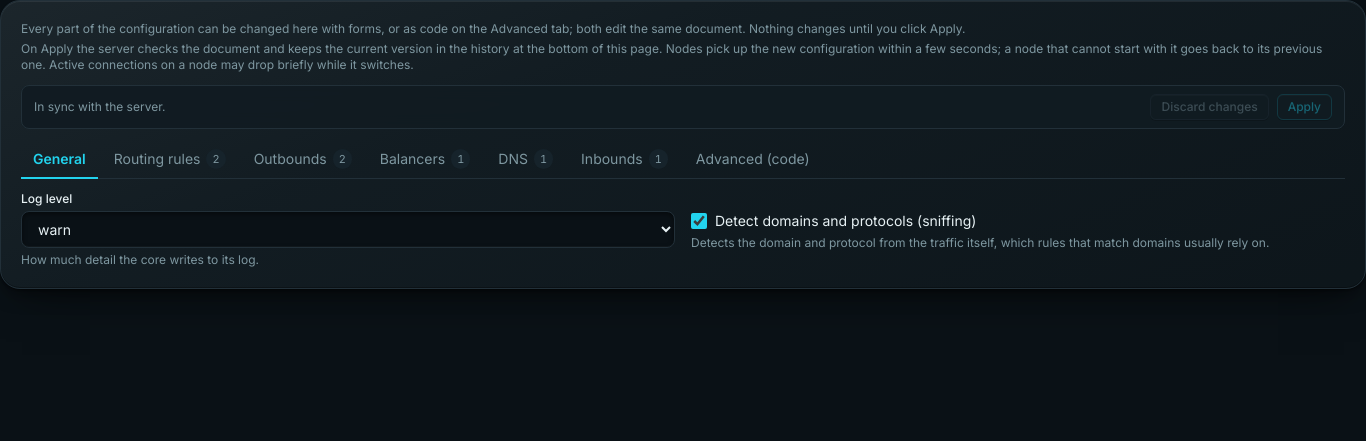
Test: tabs › files balancers apart from plain outbounds, numbered within their own list
The width and height of the screenshot is (1366, 441).
Expected: the element named "Core Config" is shown, top-left (21, 141), bottom-right (1345, 179)
Click the tab "Outbounds 2". click: point(303, 160)
box: top-left (242, 141), bottom-right (364, 179)
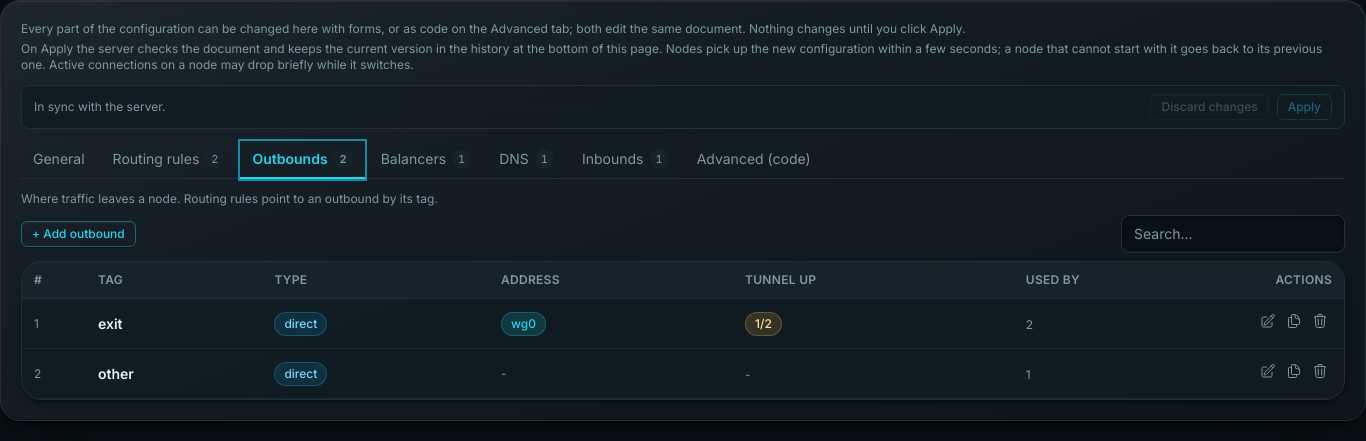
Expected: the text "fast" is not shown
Result: the text "exit" is shown at top-left (98, 314), bottom-right (123, 332)
Click the tab "Balancers 1". click: point(426, 160)
box: top-left (369, 141), bottom-right (483, 179)
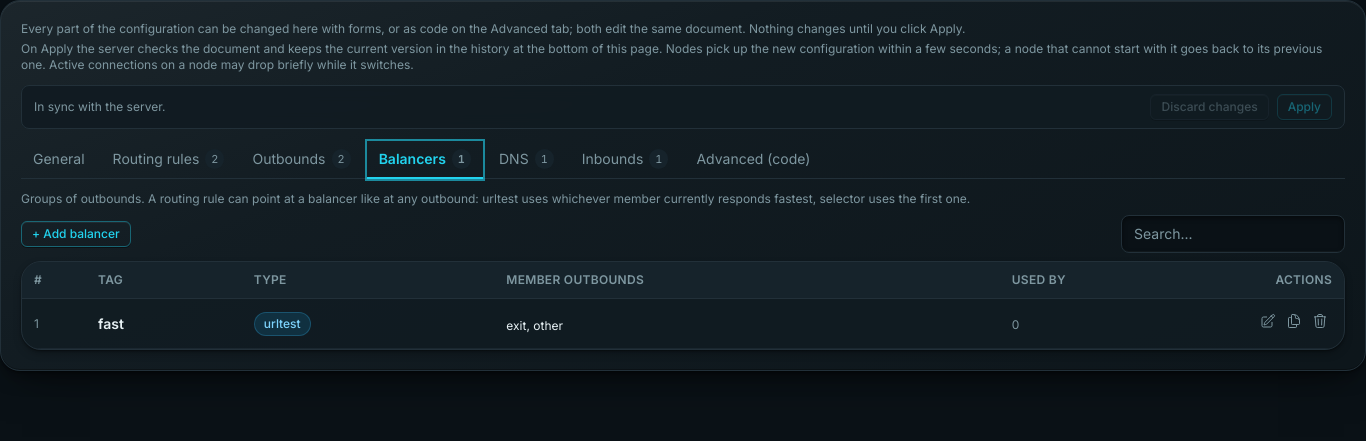
Result: the text "1" in the row of "exit, other" is shown at top-left (34, 316), bottom-right (39, 330)
Result: the text "fast" is shown at top-left (98, 314), bottom-right (124, 332)
